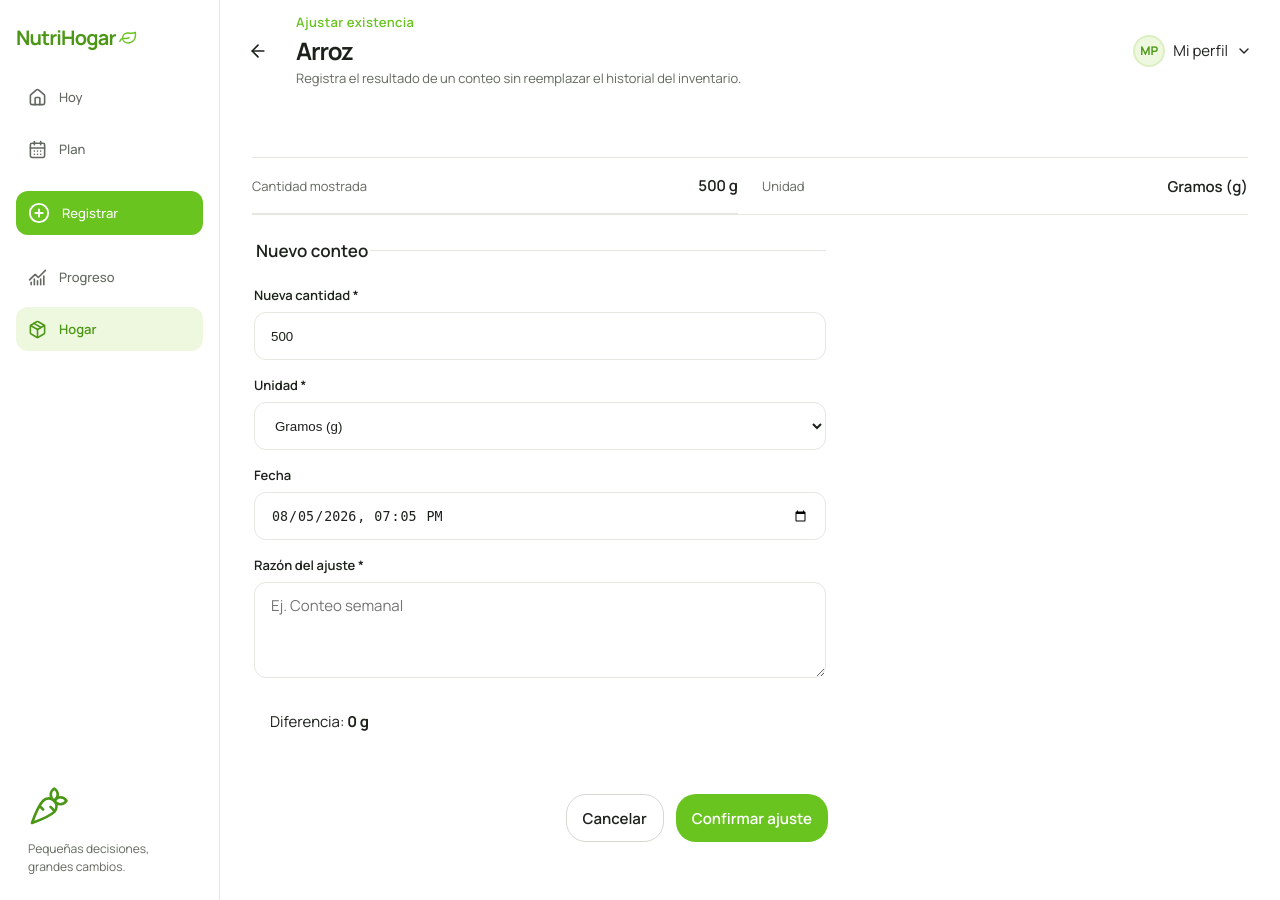
Test: Inventory form pages › requires a reason when adjusting a quantity
Click the button "Confirmar ajuste": (752, 818) top-left (676, 794), bottom-right (828, 842)
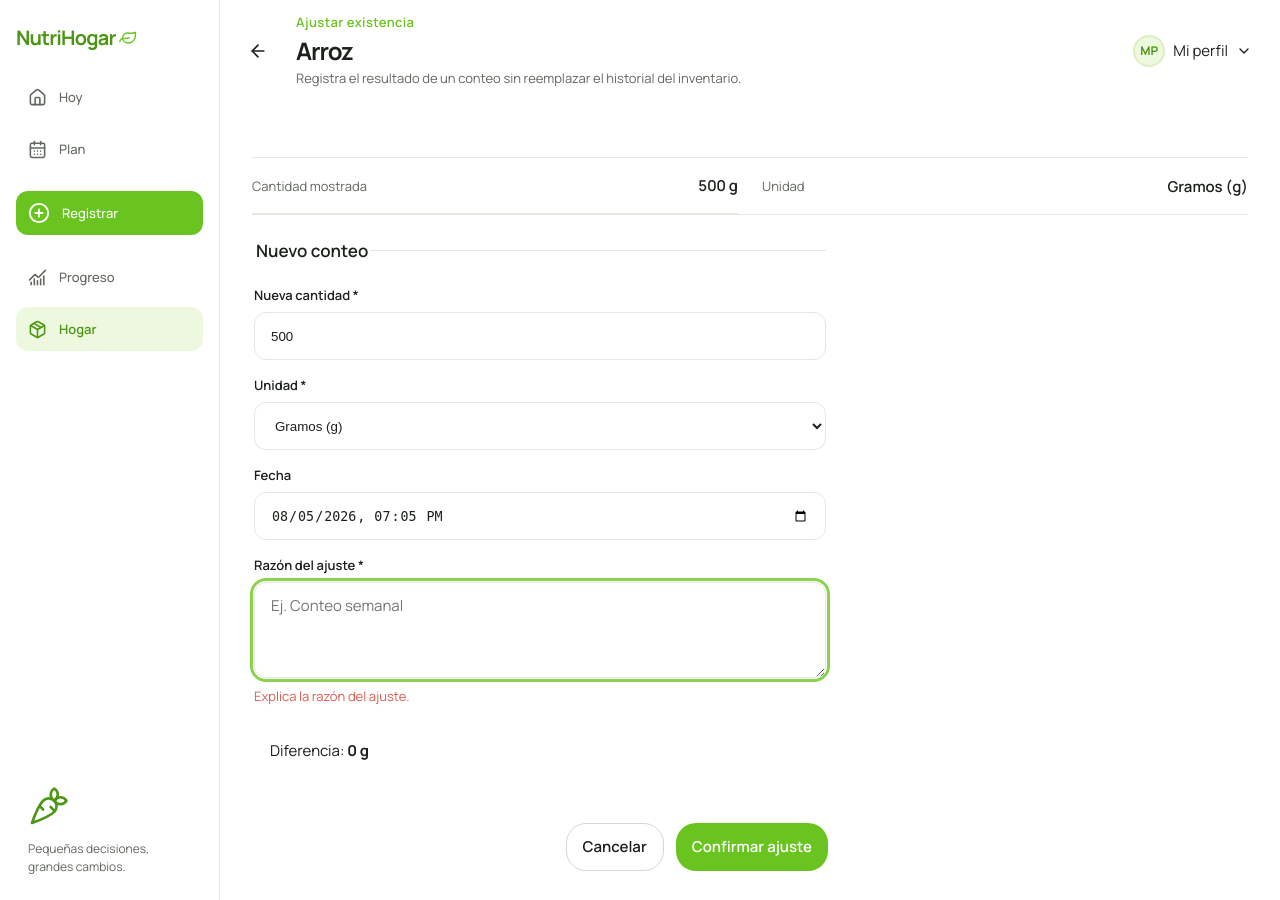
Check: the text "Explica la razón del ajuste." is shown, box top-left (254, 687), bottom-right (409, 705)
